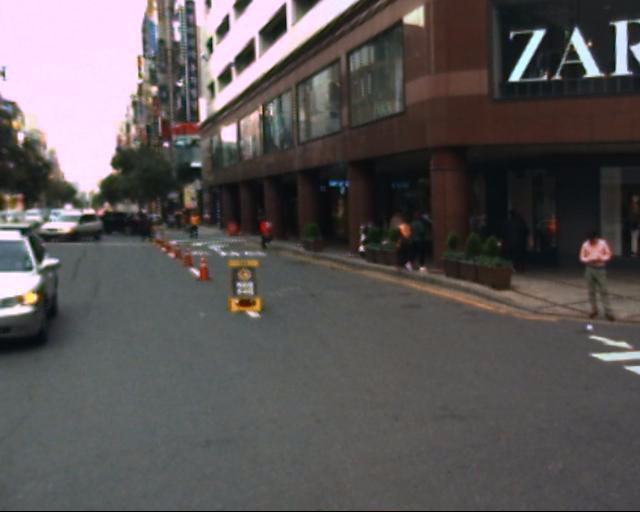person: (573, 224, 622, 330), (494, 206, 535, 279), (402, 206, 437, 280), (391, 205, 419, 282), (511, 211, 538, 277), (252, 207, 282, 257)
